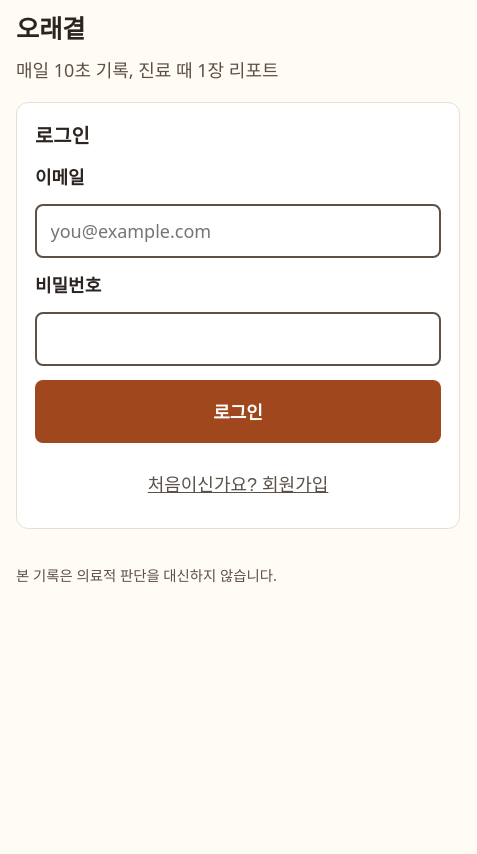
it: 가입 화면 — 만 14세 확인 › 로그인 화면에는 체크박스가 없다. 모드를 바꾸면 체크가 풀린다
Click the button "처음이신가요? 회원가입" at (238, 484), box top-left (35, 456), bottom-right (441, 510)
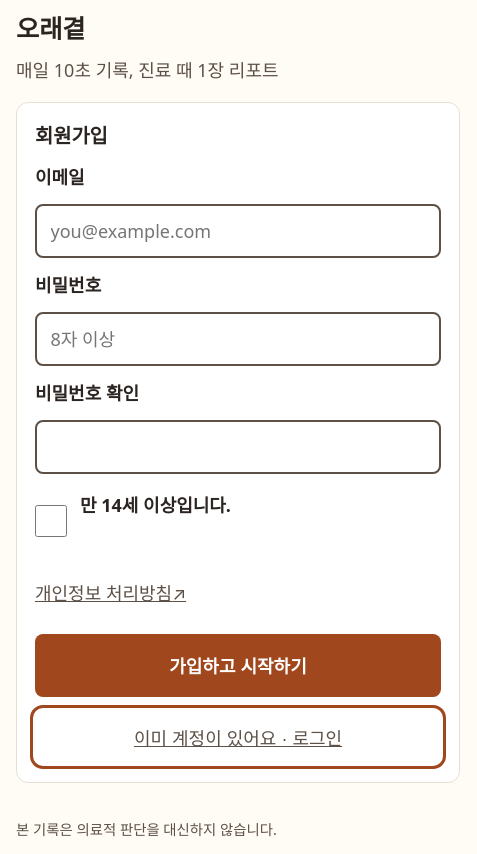
Click the checkbox labelled "만 14세 이상입니다." at (51, 521), box top-left (35, 494), bottom-right (66, 548)
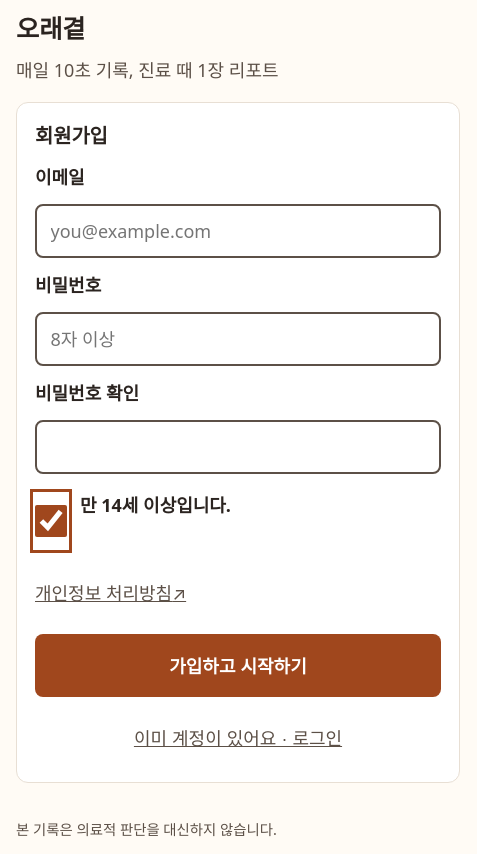
Click the button "이미 계정이 있어요 · 로그인" at (238, 737), box top-left (35, 710), bottom-right (441, 764)
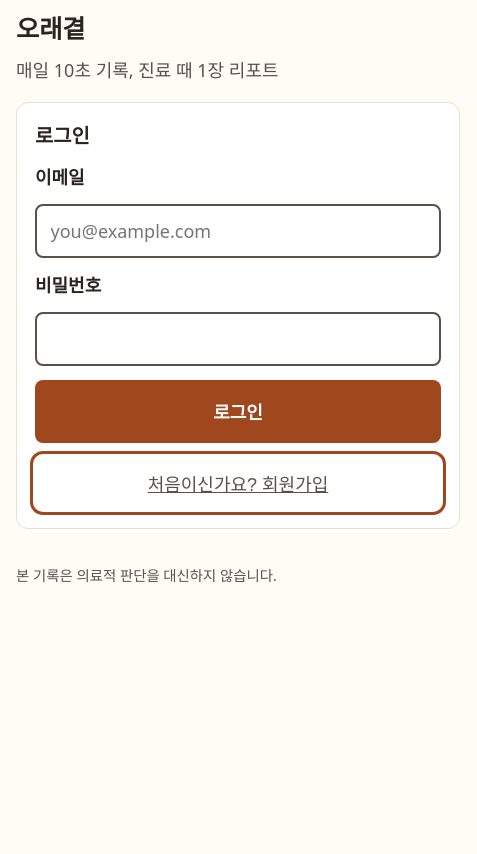
Expected: the checkbox is gone
Click the button "처음이신가요? 회원가입" at (238, 484), box top-left (35, 456), bottom-right (441, 510)
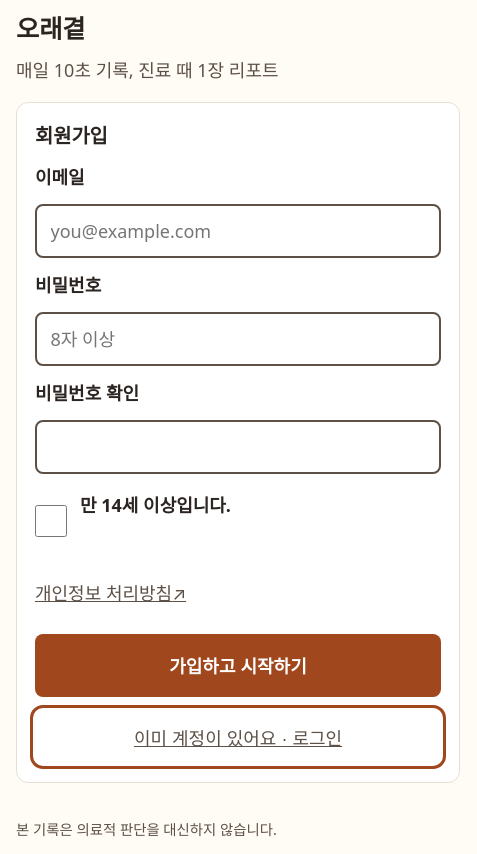
Expected: the checkbox labelled "만 14세 이상입니다." is not checked, top-left (35, 494), bottom-right (66, 548)
